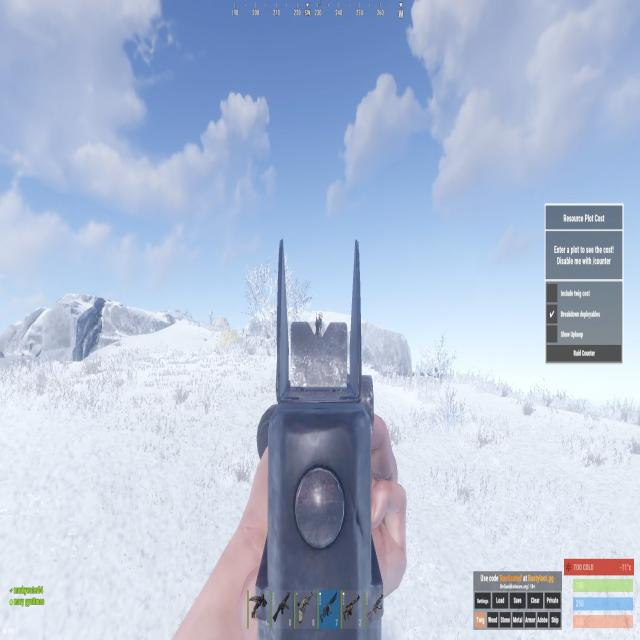Player: (313, 311, 324, 339)
